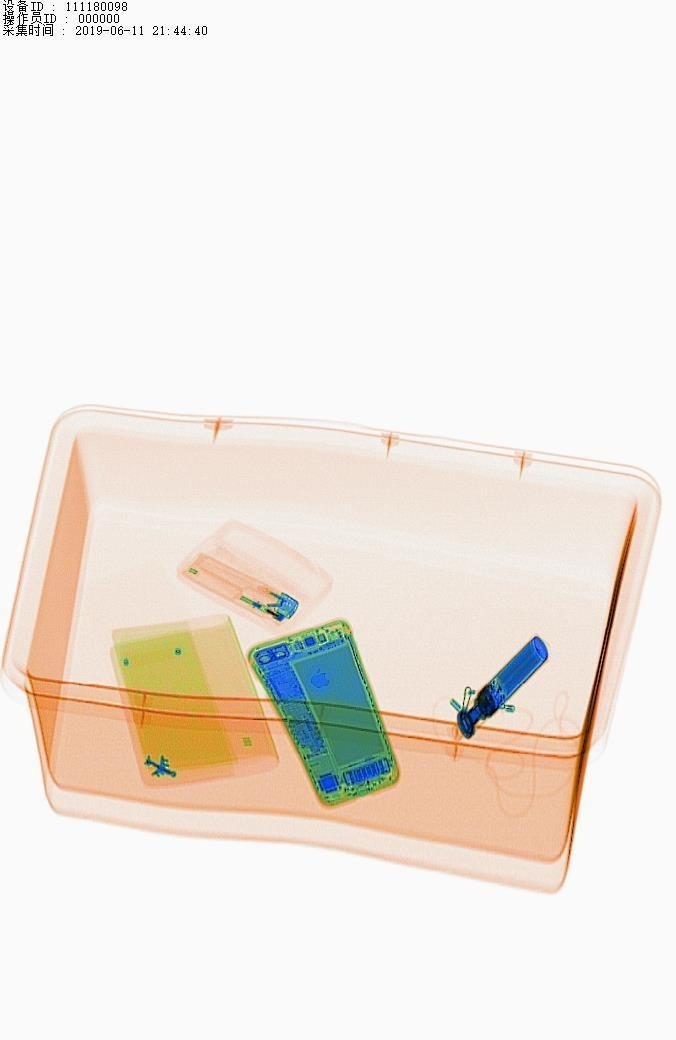NonmetallicFire: (174, 551, 315, 642)
